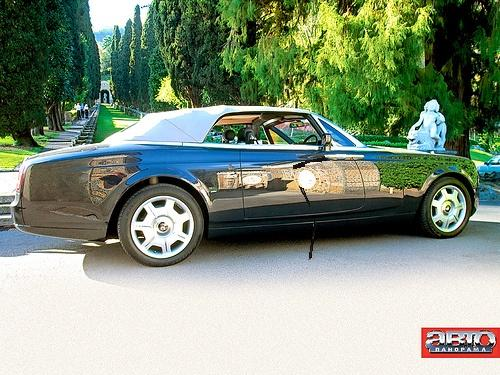tampered: (294, 158, 328, 260)
